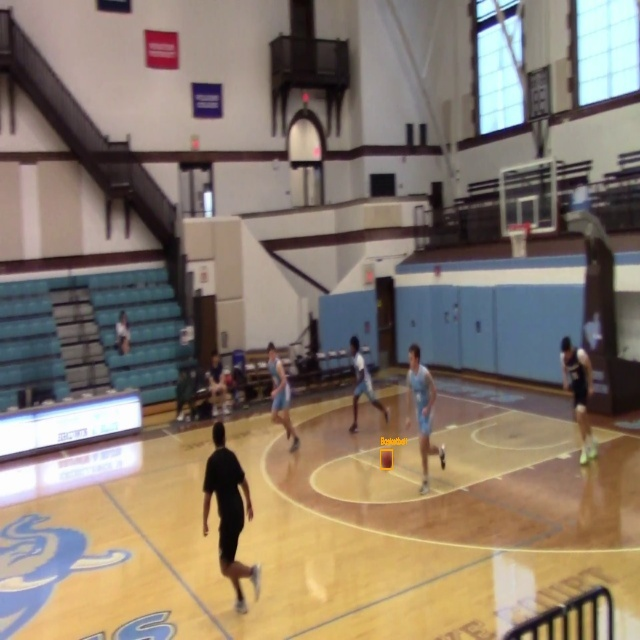Basketball: (381, 450, 393, 469)
